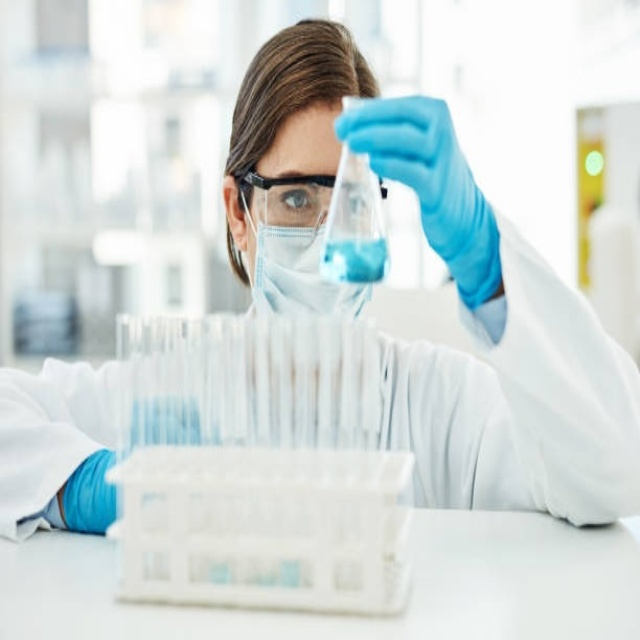Gafas: (233, 168, 384, 216)
Guantes: (335, 93, 501, 303)
Mascara: (245, 181, 377, 320)
